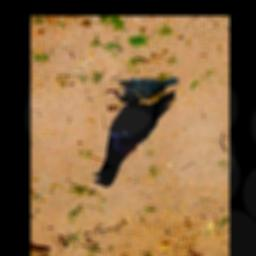Crow: (92, 81, 175, 188)
